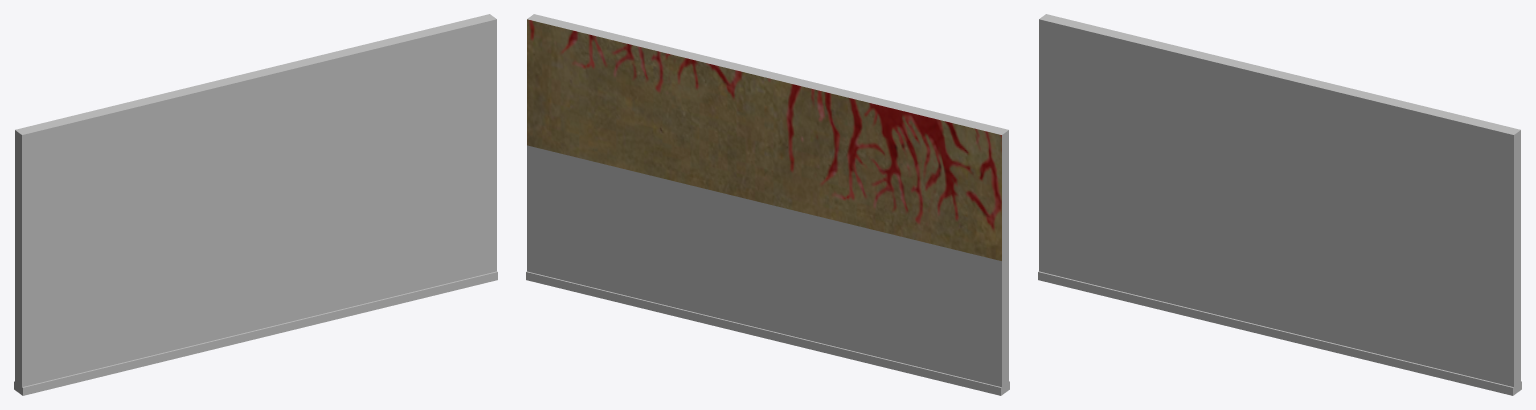
The model's file is paredconcretocorregido.fbx.
3 renders of one model, left to right at view 1: azimuth 30°, elevation 25°; view 2: azimuth 150°, elevation 25°; view 3: azimuth 330°, elevation 25°, orthographic.
Parts seen in each view (by area): view 1: Cube.748; view 2: Cube.748; view 3: Cube.748.
Boxes of the visible parts, bbox=[...] form: Cube.748: bbox=[14, 14, 497, 395]; Cube.748: bbox=[526, 14, 1009, 395]; Cube.748: bbox=[1038, 14, 1521, 395].
Size of the model in its own units: 712 by 373 by 23.06.
